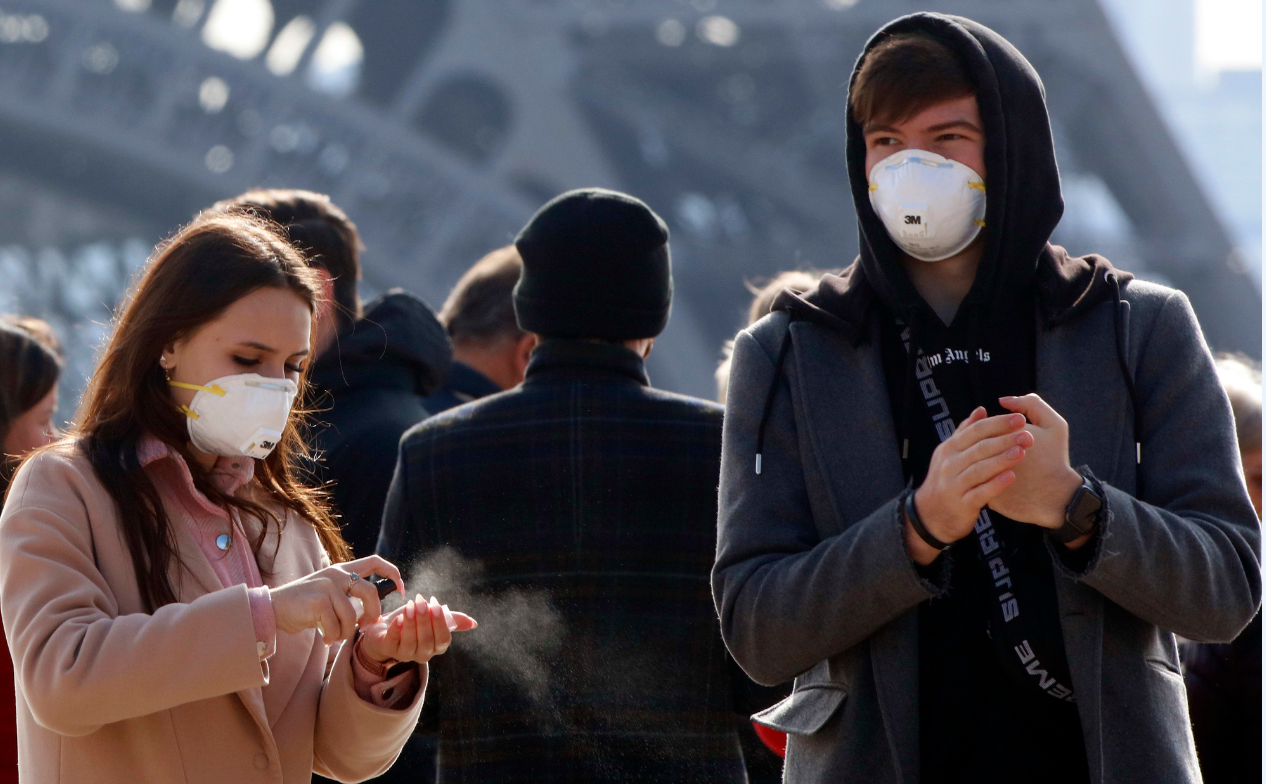with_mask: (835, 90, 998, 264), (172, 288, 317, 458)
